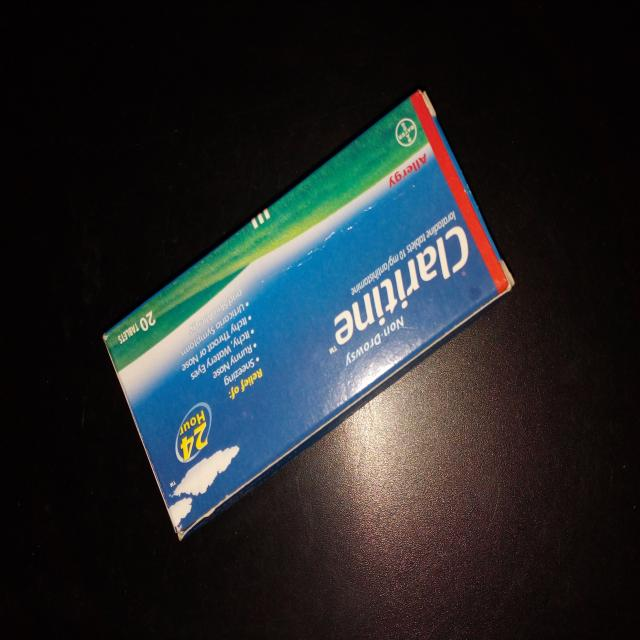Medicine: (103, 85, 514, 541)
